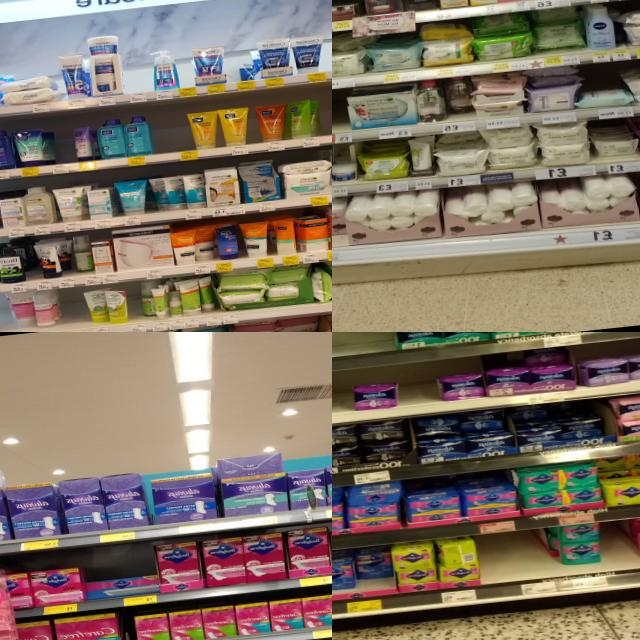100- O.O.S: (478, 530, 546, 600), (332, 332, 393, 375), (396, 362, 438, 416), (151, 110, 191, 162), (598, 521, 628, 587), (121, 56, 154, 102), (57, 287, 87, 332), (332, 371, 356, 425), (50, 125, 76, 173), (176, 49, 198, 98), (332, 89, 350, 143), (124, 281, 143, 332), (225, 46, 242, 90), (320, 94, 332, 143), (322, 32, 332, 80)
